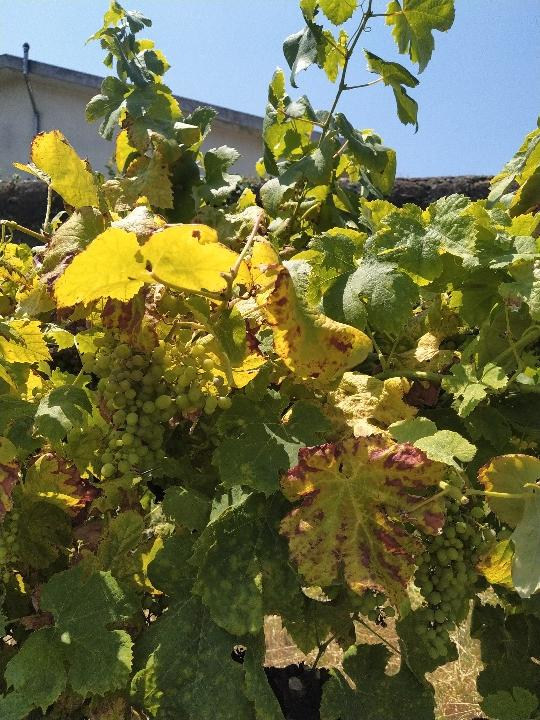grape: (96, 331, 233, 480), (412, 500, 499, 661)
